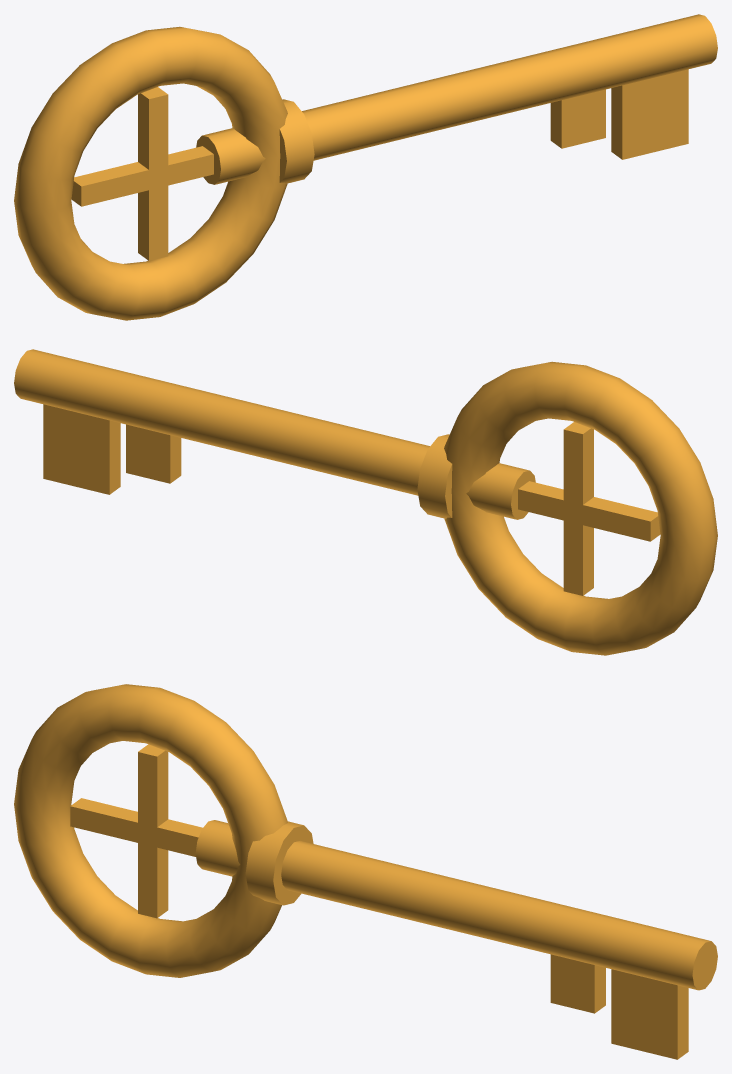
Rendered from gold_key.glb.
The picture shows the model from 3 angles, top to bottom: view 1: azimuth 30°, elevation 25°; view 2: azimuth 150°, elevation 25°; view 3: azimuth 330°, elevation 25°; orthographic projection.
Visible parts, largest first — view 1: CastleDungeonKey; view 2: CastleDungeonKey; view 3: CastleDungeonKey.
Part boxes in pixels (left/top/right/bottom): CastleDungeonKey: left=14, top=14, right=717, bottom=320; CastleDungeonKey: left=14, top=349, right=717, bottom=655; CastleDungeonKey: left=14, top=684, right=717, bottom=1059.
Bounding box in the file's own units: 1.24 × 0.49 × 0.13.
